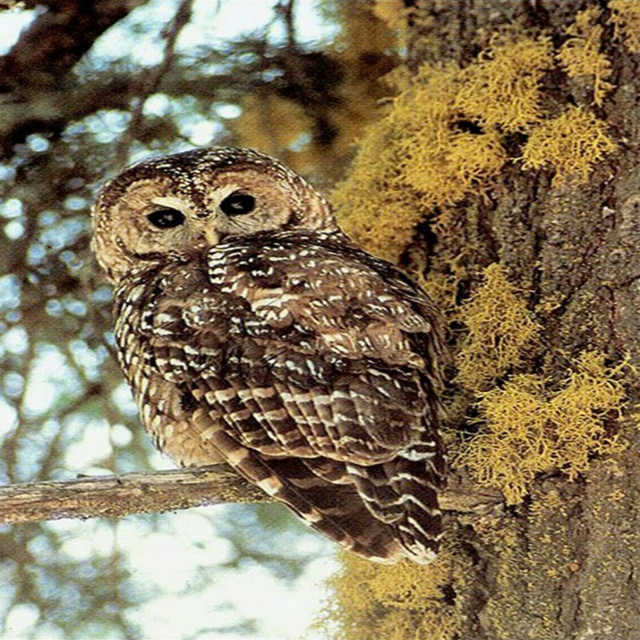Owl: (89, 145, 453, 572)
